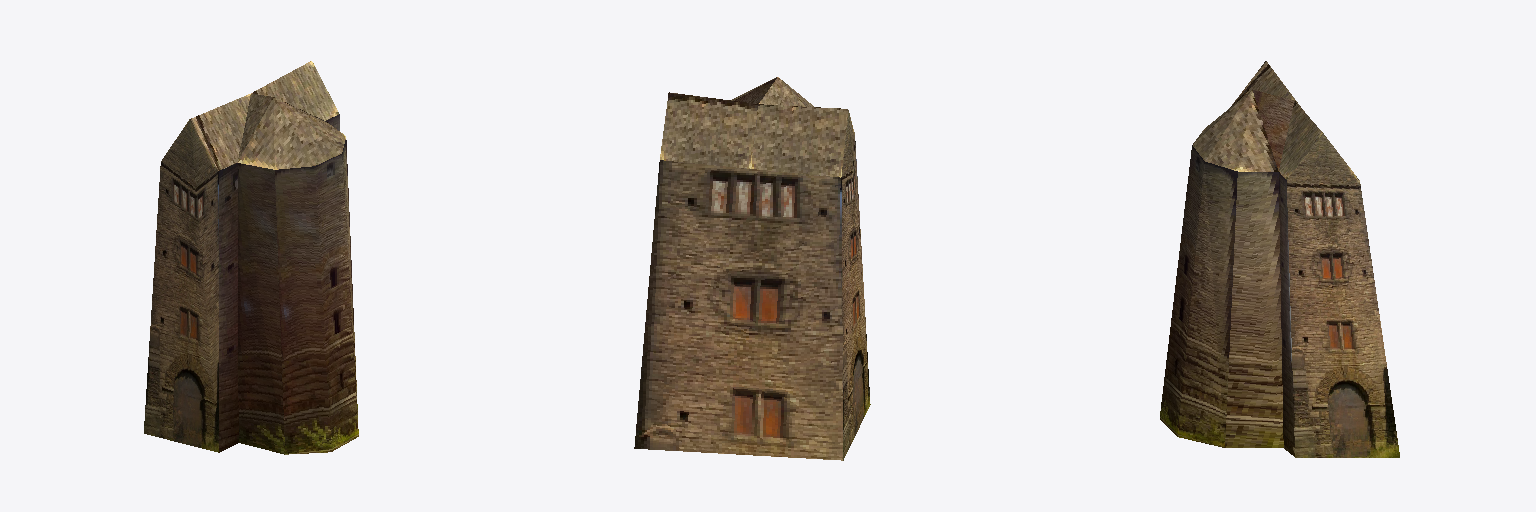
3 views of the same model, side by side, from view 1: azimuth 30°, elevation 25°; view 2: azimuth 150°, elevation 25°; view 3: azimuth 270°, elevation 25° (orthographic).
Visible parts, largest first — view 1: Cylinder; view 2: Cylinder; view 3: Cylinder.
Part boxes in pixels (x1,y1,x2,y2): Cylinder: (144, 61, 358, 454); Cylinder: (634, 77, 870, 460); Cylinder: (1160, 61, 1399, 457).
Bounding box in the file's own units: 32.8 × 56.19 × 36.47.
1 materials, 1 textured.